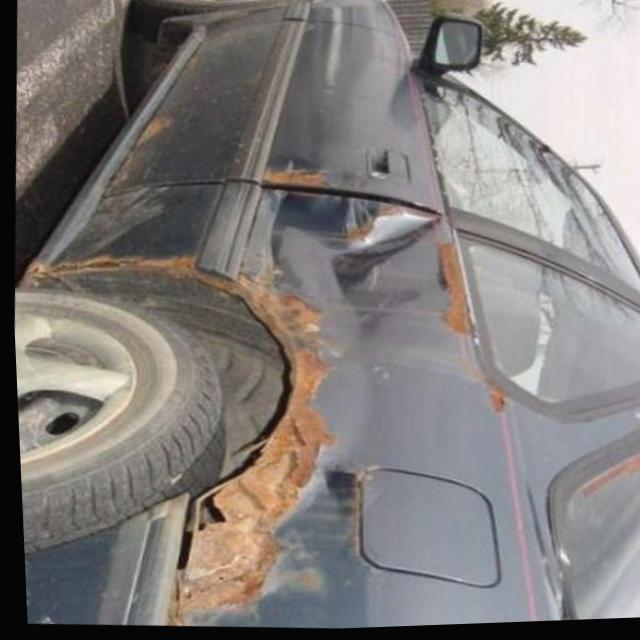Rust: (28, 248, 342, 626), (106, 113, 172, 191), (435, 237, 471, 338), (346, 464, 380, 553), (341, 206, 396, 245), (260, 166, 330, 186), (485, 381, 505, 417), (294, 566, 321, 591)
